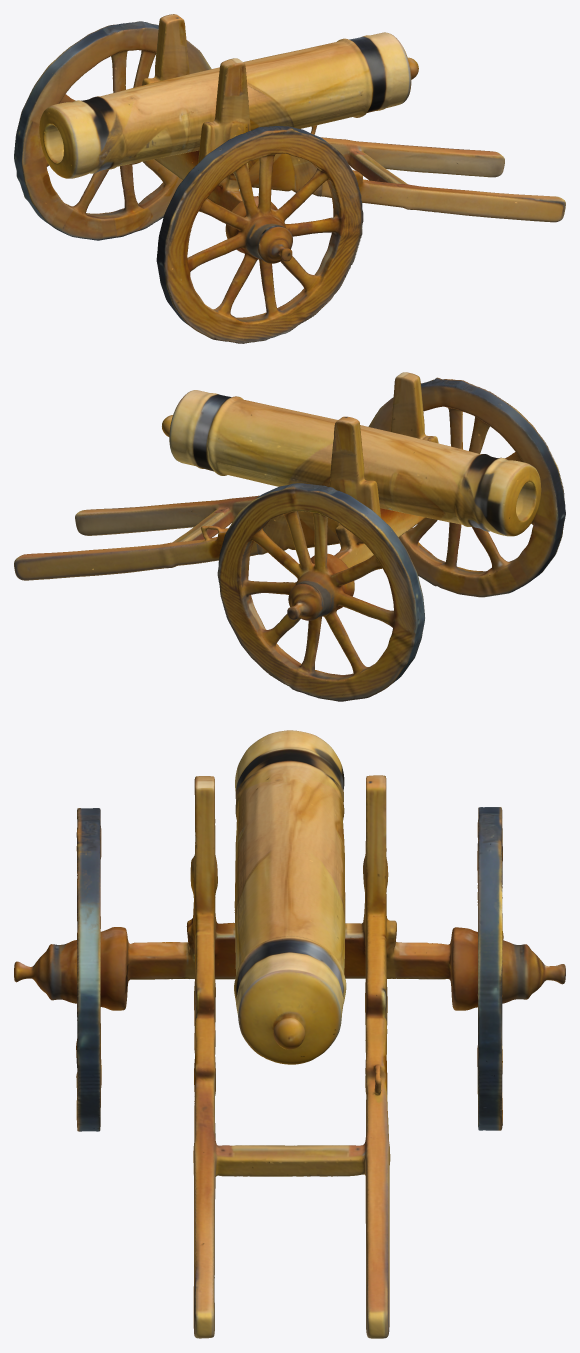
The model's file is Meshy_AI_Bulgarian_cherry_cann_0205155740_texture.glb.
3 renders of one model, top to bottom at view 1: azimuth 30°, elevation 25°; view 2: azimuth 150°, elevation 25°; view 3: azimuth 270°, elevation 25°, orthographic. The views are drawn at different scales.
Visible parts, largest first — view 1: Mesh_0; view 2: Mesh_0; view 3: Mesh_0.
Part boxes in pixels (x1=…): Mesh_0: x1=14, y1=14, x2=565, y2=343; Mesh_0: x1=14, y1=372, x2=565, y2=701; Mesh_0: x1=14, y1=730, x2=565, y2=1338.
Size of the model in its own units: 2 by 0.9676 by 1.41.
Materials: 1 (1 with a texture image).
